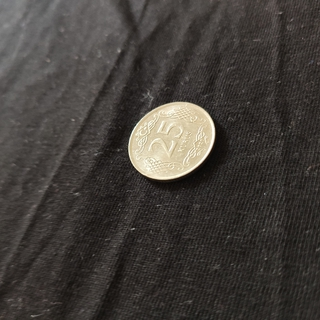25KURUS: (126, 99, 217, 183)
